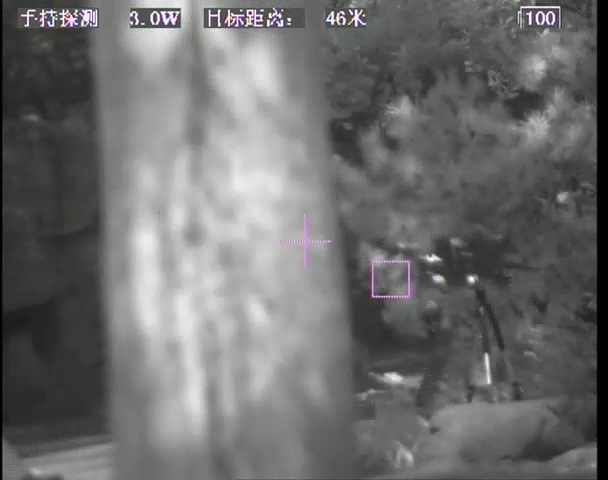my: (466, 272, 481, 285)
